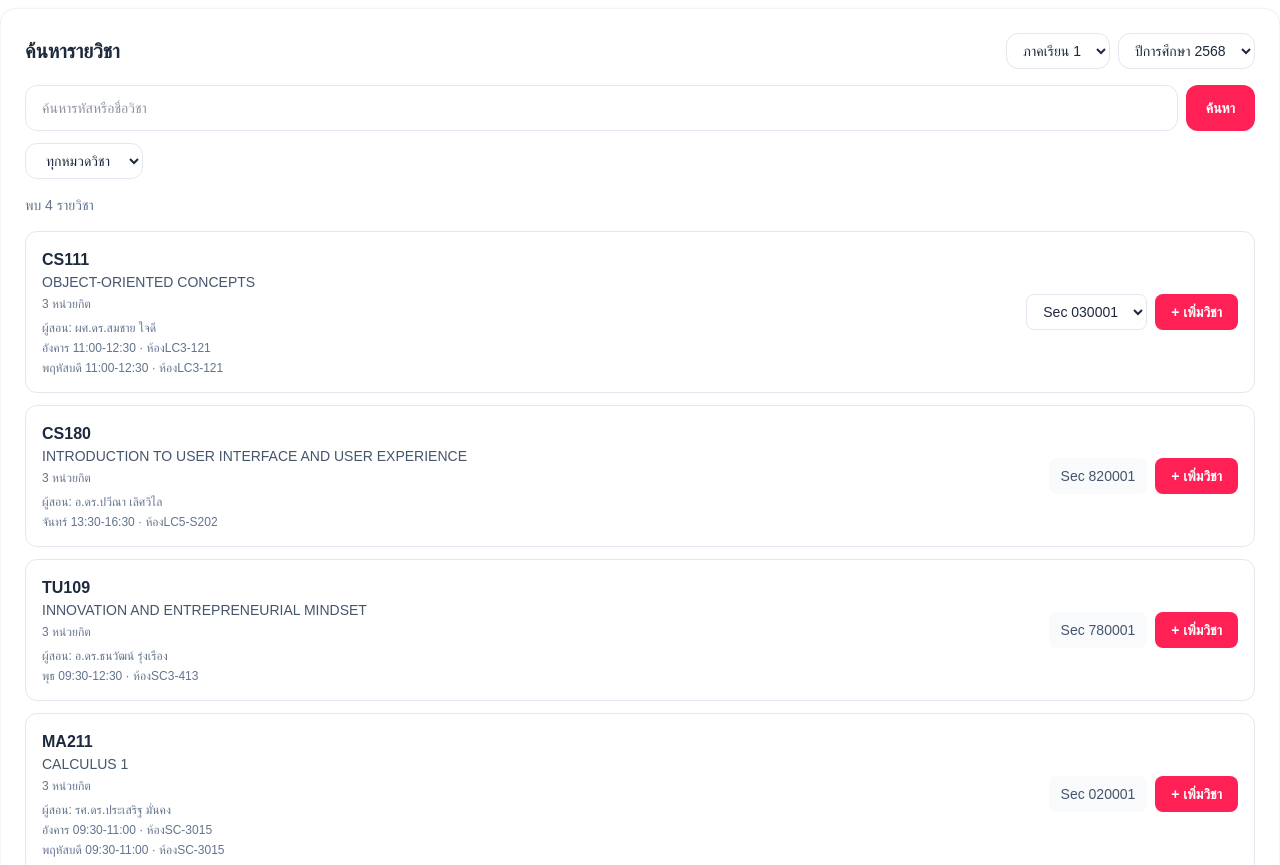
Scenario: US1-T10 หน้าตารางเรียนจำลองเชื่อมกับ API › backend ตอบว่ามีเวลาชน แสดงแถบเตือนตาม conflicts ของ API
The width and height of the screenshot is (1280, 865).
(page scrolled)
Expected: the text "พบ 4 รายวิชา" is shown, left=25, top=197, right=94, bottom=213
Click the button "+ เพิ่มวิชา" next to "780001".
click(1197, 630)  # box left=1155, top=612, right=1238, bottom=648
(page scrolled)
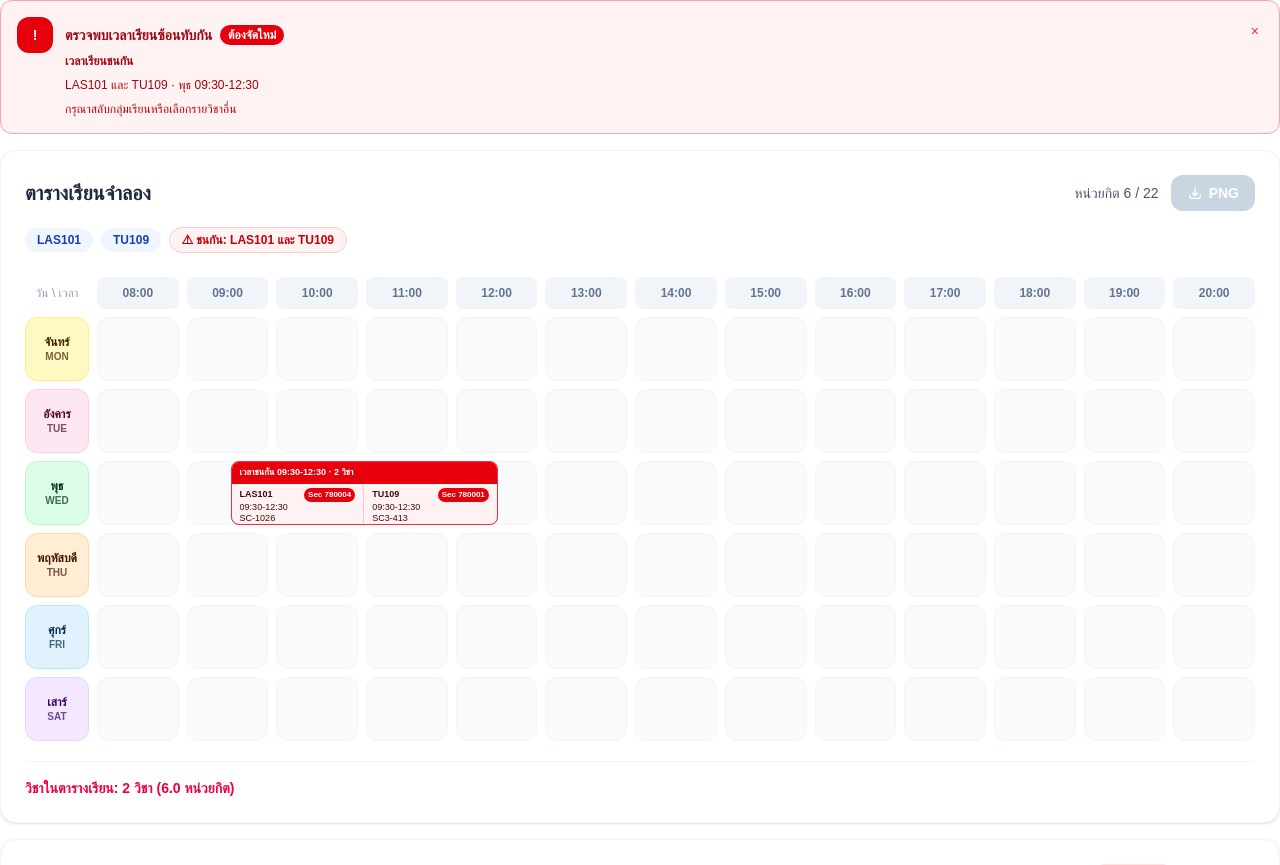
Now the heading "ตรวจพบเวลาเรียนซ้อนทับกัน" is shown, box left=65, top=25, right=212, bottom=45
Now the button "PNG" is disabled, box left=1171, top=175, right=1255, bottom=211
